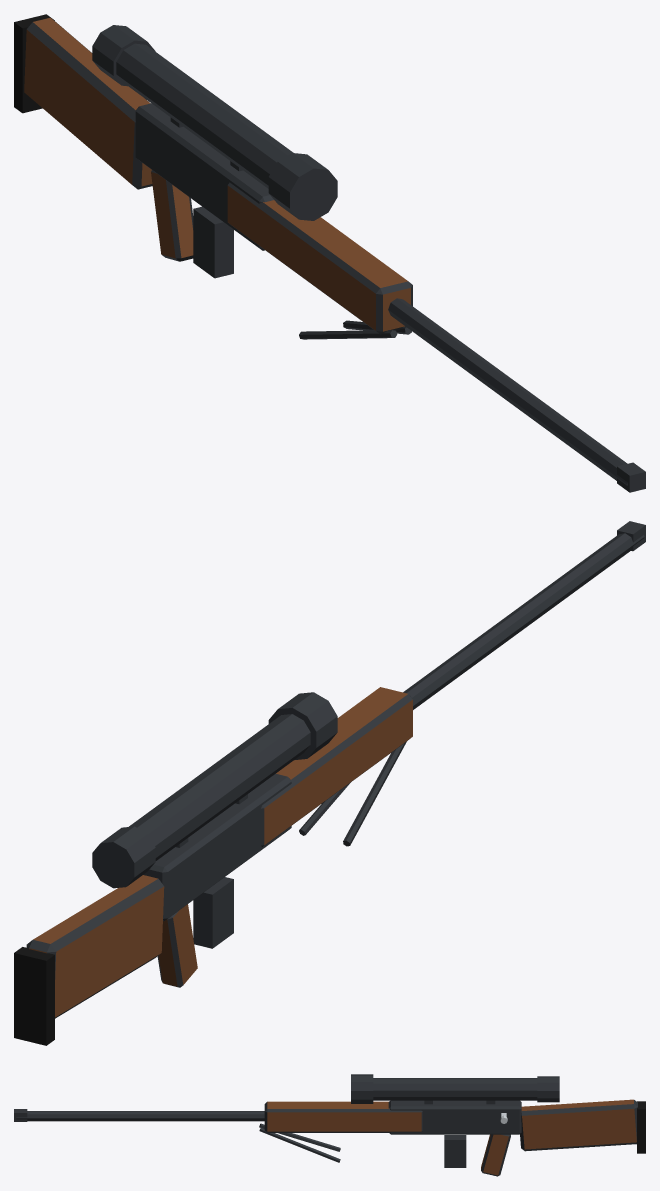
The model's file is WPN_Sniper.fbx.
The picture shows the model from 3 angles, top to bottom: view 1: azimuth 30°, elevation 25°; view 2: azimuth 150°, elevation 25°; view 3: azimuth 270°, elevation 25°; orthographic projection. The views are drawn at different scales.
Visible parts, largest first — view 1: WPN_Sniper__BODY; view 2: WPN_Sniper__BODY; view 3: WPN_Sniper__BODY.
Boxes of the visible parts, left/top/right/bottom form: WPN_Sniper__BODY: left=14, top=14, right=645, bottom=492; WPN_Sniper__BODY: left=14, top=521, right=645, bottom=1045; WPN_Sniper__BODY: left=14, top=1074, right=645, bottom=1176.
Size of the model in its own units: 0.0856 by 0.2466 by 1.42.
